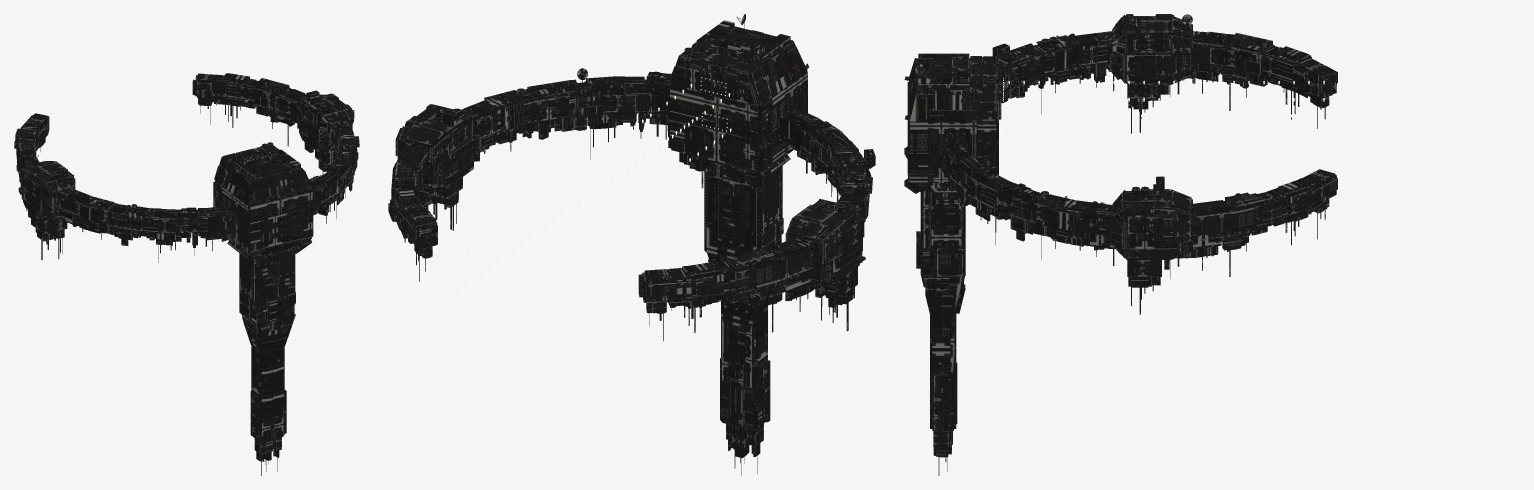
File: lantern-station-transformed.glb
The picture shows the model from 3 angles, left to right: view 1: azimuth 30°, elevation 25°; view 2: azimuth 150°, elevation 25°; view 3: azimuth 270°, elevation 25°; orthographic projection. The views are drawn at different scales.
Parts seen in each view (by area): view 1: LanternStation, GuideLights; view 2: LanternStation, GuideLights; view 3: LanternStation, GuideLights.
Boxes of the visible parts, x1=… form: LanternStation: x1=14, y1=73, x2=359, y2=475; GuideLights: x1=30, y1=14, x2=243, y2=180; LanternStation: x1=388, y1=14, x2=875, y2=475; GuideLights: x1=415, y1=77, x2=731, y2=333; LanternStation: x1=904, y1=14, x2=1337, y2=475; GuideLights: x1=1000, y1=78, x2=1519, y2=135.
Size of the model in its own units: 5357 by 5172 by 6981.
Materials: 2 (1 with a texture image).
